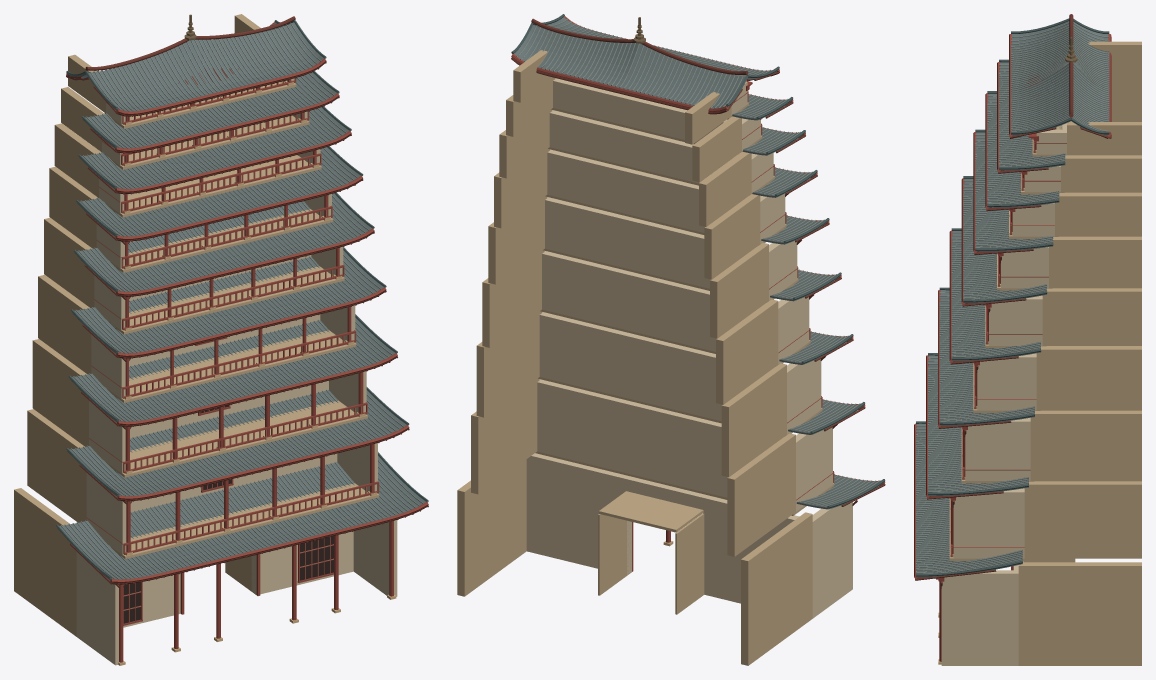
Rendered from tower.glb.
3 views of the same model, side by side, from view 1: azimuth 30°, elevation 25°; view 2: azimuth 150°, elevation 25°; view 3: azimuth 270°, elevation 25° (orthographic). The views are drawn at different scales.
Parts seen in each view (by area): view 1: tower-roof-1-tile, tower-storey-01-plaster, tower-roof-9-tile, tower-storey-03-plaster-side, tower-roof-2-tile, tower-storey-02-plaster-side, tower-roof-3-tile, tower-roof-4-tile, tower-storey-01-plaster-side, tower-storey-04-plaster-side, tower-roof-5-tile, tower-roof-1-tile-edge (+52 smaller); view 2: tower-storey-01-plaster-side, tower-storey-01-plaster, tower-storey-02-plaster, tower-storey-03-plaster, tower-storey-04-plaster, tower-storey-02-plaster-side, tower-storey-03-plaster-side, tower-storey-05-plaster, tower-storey-04-plaster-side, tower-storey-06-plaster, tower-crown-rear-tile, tower-storey-05-plaster-side (+19 smaller); view 3: tower-storey-01-plaster-side, tower-storey-02-plaster-side, tower-storey-03-plaster-side, tower-storey-01-plaster, tower-storey-04-plaster-side, tower-storey-05-plaster-side, tower-storey-06-plaster-side, tower-roof-9-tile-edge, tower-storey-02-plaster, tower-storey-07-plaster-side, tower-roof-9-tile, tower-storey-08-plaster-side (+35 smaller).
Boxes of the visible parts, left/top/right/bottom form: tower-roof-1-tile: left=57, top=456, right=425, bottom=580; tower-storey-01-plaster: left=76, top=520, right=397, bottom=665; tower-roof-9-tile: left=89, top=22, right=323, bottom=111; tower-storey-03-plaster-side: left=32, top=339, right=367, bottom=477; tower-roof-2-tile: left=67, top=390, right=406, bottom=496; tower-storey-02-plaster-side: left=27, top=409, right=379, bottom=559; tower-roof-3-tile: left=70, top=318, right=395, bottom=422; tower-roof-4-tile: left=72, top=250, right=383, bottom=353; tower-storey-01-plaster-side: left=14, top=488, right=252, bottom=636; tower-storey-04-plaster-side: left=38, top=274, right=356, bottom=402; tower-roof-5-tile: left=75, top=193, right=371, bottom=292; tower-roof-1-tile-edge: left=60, top=459, right=427, bottom=579; tower-storey-01-plaster-side: left=457, top=459, right=812, bottom=665; tower-storey-01-plaster: left=526, top=453, right=852, bottom=618; tower-storey-02-plaster: left=537, top=379, right=832, bottom=511; tower-storey-03-plaster: left=539, top=312, right=821, bottom=434; tower-storey-04-plaster: left=542, top=251, right=809, bottom=364; tower-storey-02-plaster-side: left=471, top=378, right=834, bottom=556; tower-storey-03-plaster-side: left=476, top=311, right=822, bottom=477; tower-storey-05-plaster: left=545, top=197, right=797, bottom=300; tower-storey-04-plaster-side: left=482, top=250, right=810, bottom=404; tower-storey-06-plaster: left=547, top=149, right=785, bottom=243; tower-crown-rear-tile: left=512, top=25, right=745, bottom=108; tower-storey-05-plaster-side: left=488, top=196, right=798, bottom=338; tower-storey-01-plaster-side: left=1018, top=481, right=1141, bottom=665; tower-storey-02-plaster-side: left=949, top=481, right=1141, bottom=560; tower-storey-03-plaster-side: left=961, top=410, right=1141, bottom=483; tower-storey-01-plaster: left=941, top=561, right=1023, bottom=665; tower-storey-04-plaster-side: left=973, top=346, right=1141, bottom=412; tower-storey-05-plaster-side: left=985, top=192, right=1141, bottom=347; tower-storey-06-plaster-side: left=997, top=154, right=1141, bottom=290; tower-roof-9-tile-edge: left=1011, top=22, right=1070, bottom=131; tower-storey-02-plaster: left=953, top=488, right=1024, bottom=558; tower-storey-07-plaster-side: left=1009, top=105, right=1141, bottom=238; tower-roof-9-tile: left=1011, top=21, right=1070, bottom=135; tower-storey-08-plaster-side: left=1021, top=74, right=1141, bottom=194.
Bounding box in the file's own units: 26.44 × 45 × 16.58.
